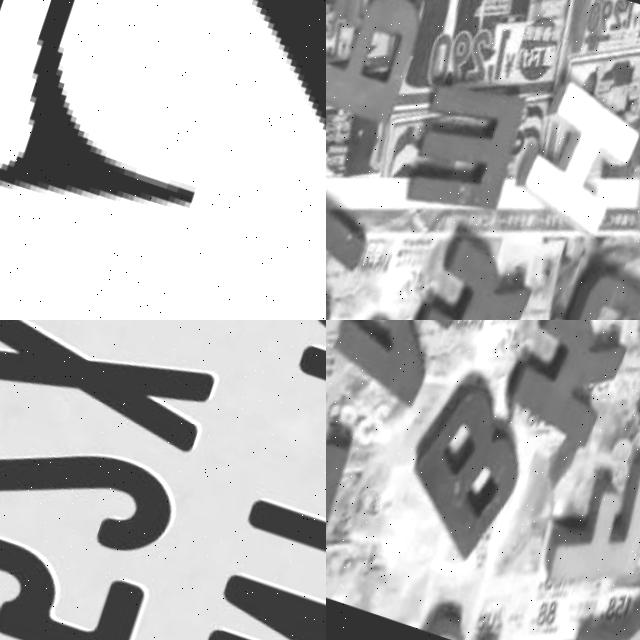2: (0, 390, 192, 567)
5: (0, 500, 152, 640)
B: (397, 375, 543, 560)
D: (544, 247, 640, 320)
F: (542, 441, 640, 600)
H: (508, 72, 640, 242)
K: (505, 320, 640, 439), (410, 226, 546, 320)
M: (397, 48, 534, 226)
N: (326, 320, 471, 412), (326, 180, 376, 320)
P: (326, 0, 427, 130)
S: (0, 0, 326, 320)
T: (326, 394, 364, 571)
X: (0, 320, 220, 453)
Y: (234, 459, 326, 628), (576, 558, 640, 640)
